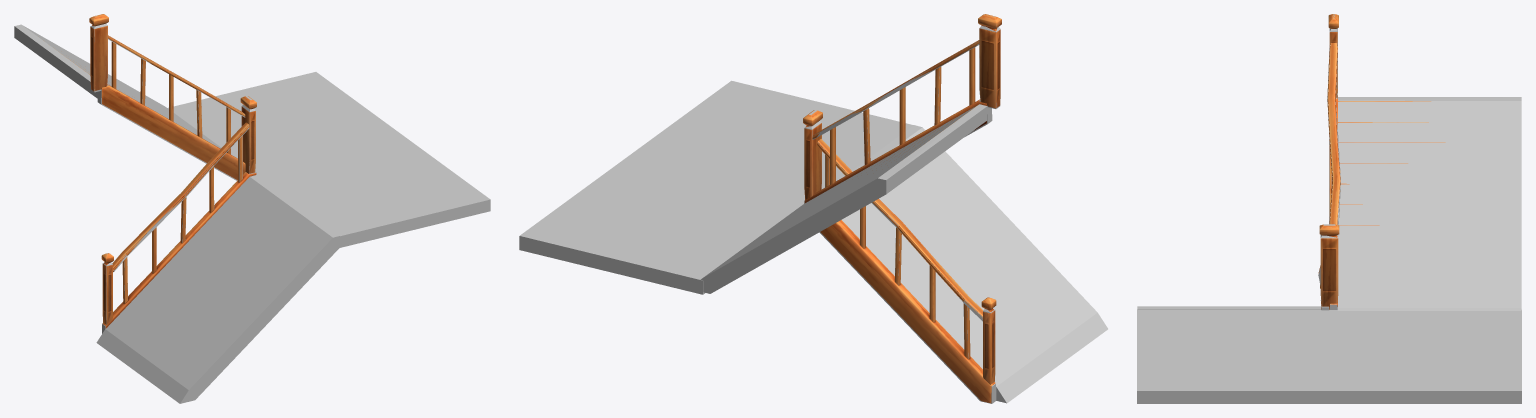
File: SM_PropStairs01TypeA.fbx
3 views of the same model, side by side, from view 1: azimuth 30°, elevation 25°; view 2: azimuth 150°, elevation 25°; view 3: azimuth 270°, elevation 25° (orthographic). The views are drawn at different scales.
Visible parts, largest first — view 1: SM_PropStairs01TypeA_ConvexHulls, SM_PropStairs01TypeA; view 2: SM_PropStairs01TypeA_ConvexHulls, SM_PropStairs01TypeA; view 3: SM_PropStairs01TypeA_ConvexHulls, SM_PropStairs01TypeA.
Boxes of the visible parts, left/top/right/bottom form: SM_PropStairs01TypeA_ConvexHulls: left=14, top=15, right=490, bottom=403; SM_PropStairs01TypeA: left=70, top=14, right=256, bottom=328; SM_PropStairs01TypeA_ConvexHulls: left=519, top=16, right=1107, bottom=403; SM_PropStairs01TypeA: left=803, top=14, right=1001, bottom=403; SM_PropStairs01TypeA_ConvexHulls: left=1137, top=14, right=1521, bottom=403; SM_PropStairs01TypeA: left=1318, top=14, right=1445, bottom=309.
Size of the model in its own units: 464 by 452 by 459.
2 materials, 1 textured.
